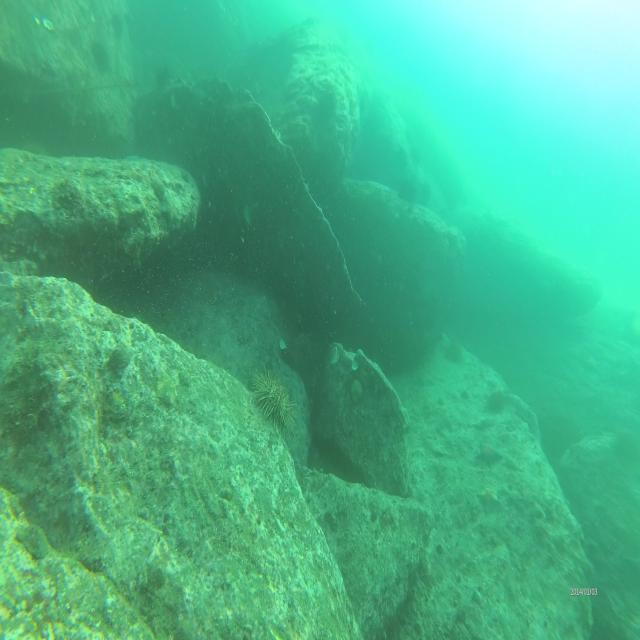echinus: (250, 361, 300, 437), (485, 384, 507, 414), (445, 337, 466, 364)
